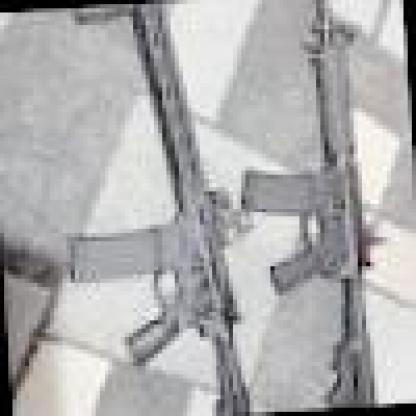rifle: (62, 0, 258, 416), (229, 0, 391, 412)
